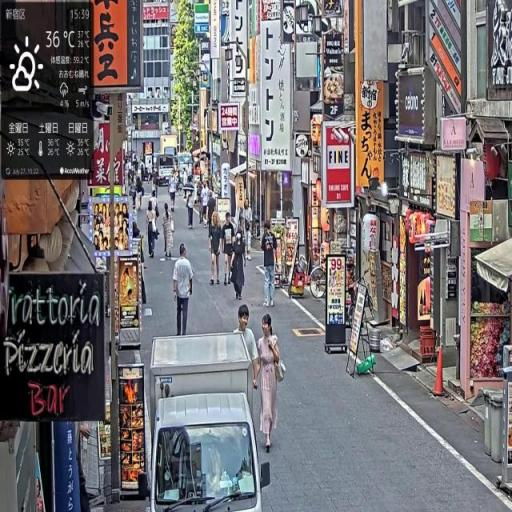person: (256, 313, 286, 459), (172, 241, 196, 339), (221, 211, 237, 291), (209, 209, 225, 288), (242, 198, 255, 263), (186, 187, 196, 229)
